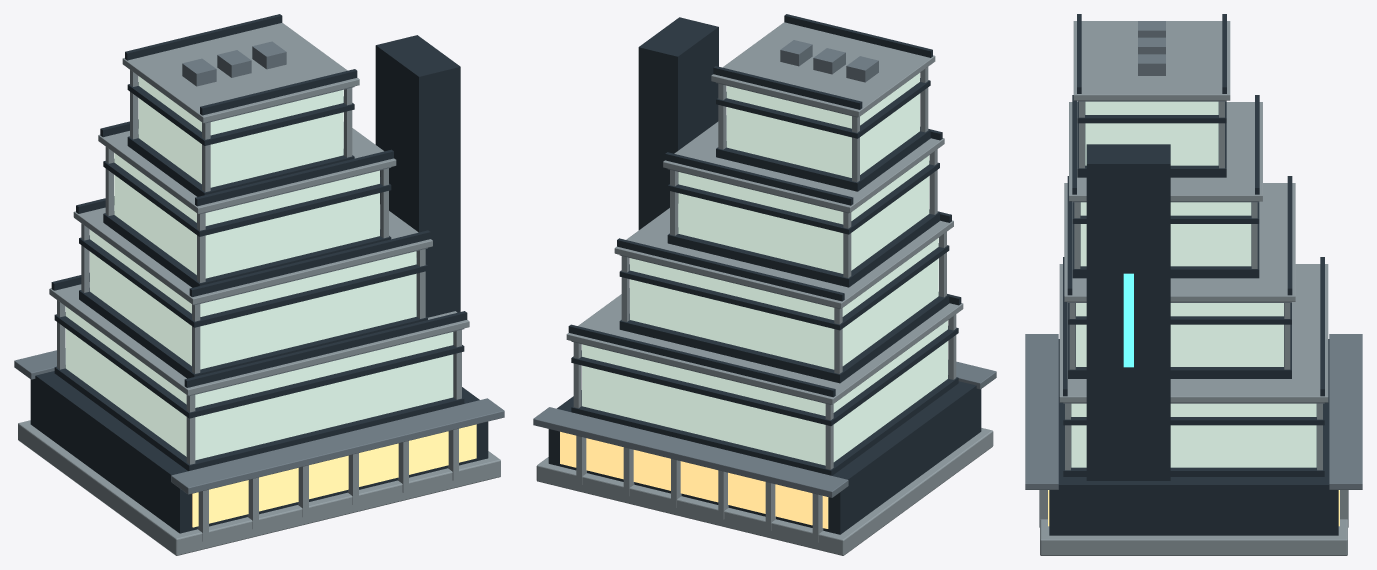
The model's file is vrx_city_services_a_LOD0.fbx.
3 views of the same model, side by side, from view 1: azimuth 30°, elevation 25°; view 2: azimuth 150°, elevation 25°; view 3: azimuth 270°, elevation 25° (orthographic). The views are drawn at different scales.
Parts seen in each view (by area): view 1: vrx_city_services_a_LOD0; view 2: vrx_city_services_a_LOD0; view 3: vrx_city_services_a_LOD0.
Part boxes in pixels (box(x1,y1,x2,y2)): vrx_city_services_a_LOD0: box(14, 14, 504, 555); vrx_city_services_a_LOD0: box(533, 14, 996, 555); vrx_city_services_a_LOD0: box(1025, 14, 1362, 555).
Bounding box in the file's own units: 39 × 49.1 × 36.2.
